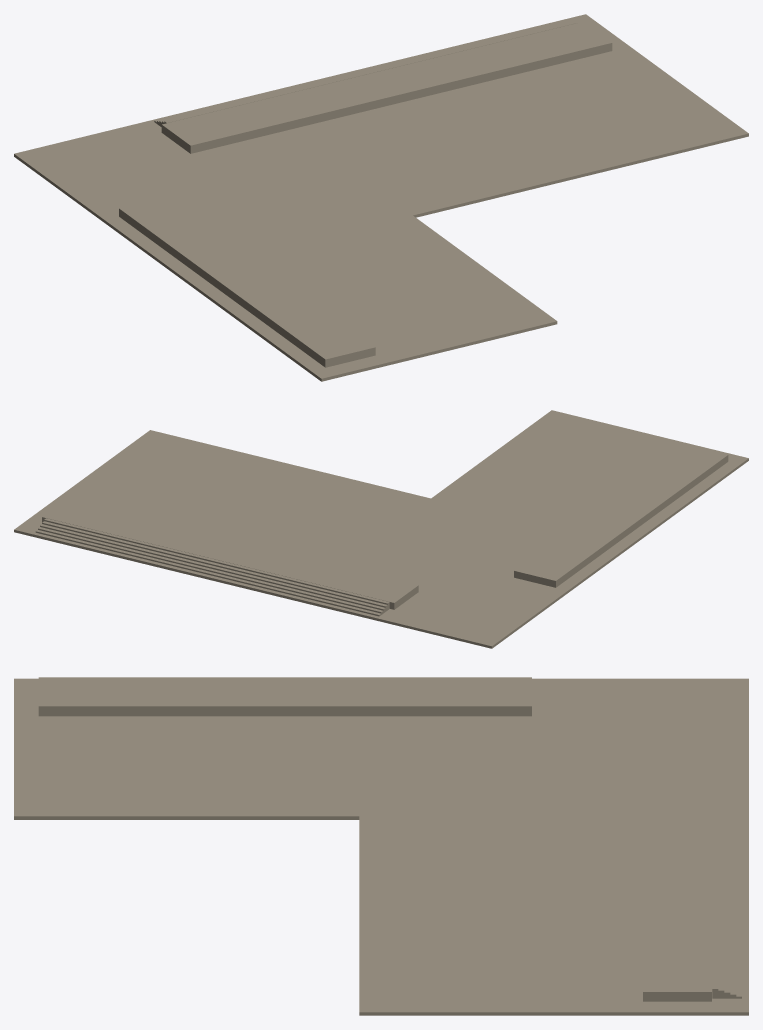
The model's file is KOL_T1_GPO__00_Foundation.fbx.
3 renders of one model, top to bottom at view 1: azimuth 30°, elevation 25°; view 2: azimuth 150°, elevation 25°; view 3: azimuth 270°, elevation 25°, orthographic. The views are drawn at different scales.
Parts seen in each view (by area): view 1: KOL_T1_GPO__00_Foundation__KOL_T1_HeritageStone; view 2: KOL_T1_GPO__00_Foundation__KOL_T1_HeritageStone; view 3: KOL_T1_GPO__00_Foundation__KOL_T1_HeritageStone.
Part boxes in pixels (x1,y1,x2,y2): KOL_T1_GPO__00_Foundation__KOL_T1_HeritageStone: (14,14,748,381); KOL_T1_GPO__00_Foundation__KOL_T1_HeritageStone: (14,410,748,648); KOL_T1_GPO__00_Foundation__KOL_T1_HeritageStone: (14,677,748,1015).
Bounding box in the file's own units: 160 × 3 × 149.
